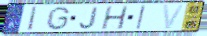G: (44, 6, 71, 31)
H: (100, 5, 130, 31)
I: (27, 6, 39, 32), (135, 5, 147, 30)
J: (78, 6, 101, 30)
V: (162, 4, 187, 30)
